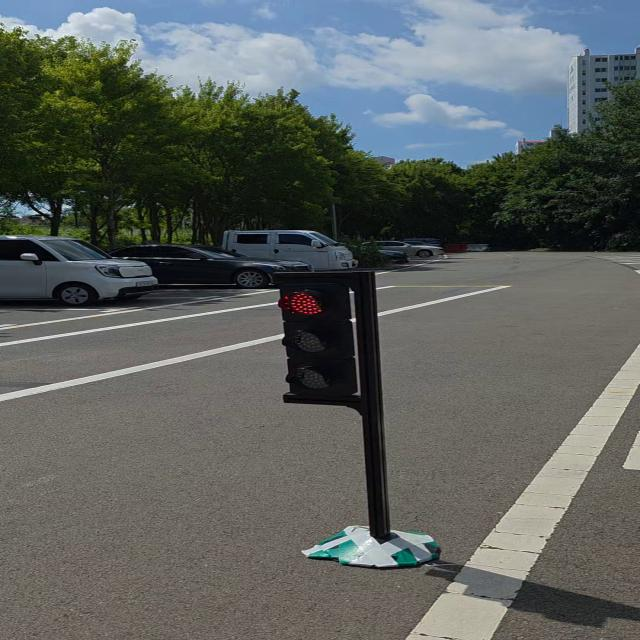red: (264, 278, 367, 412)
